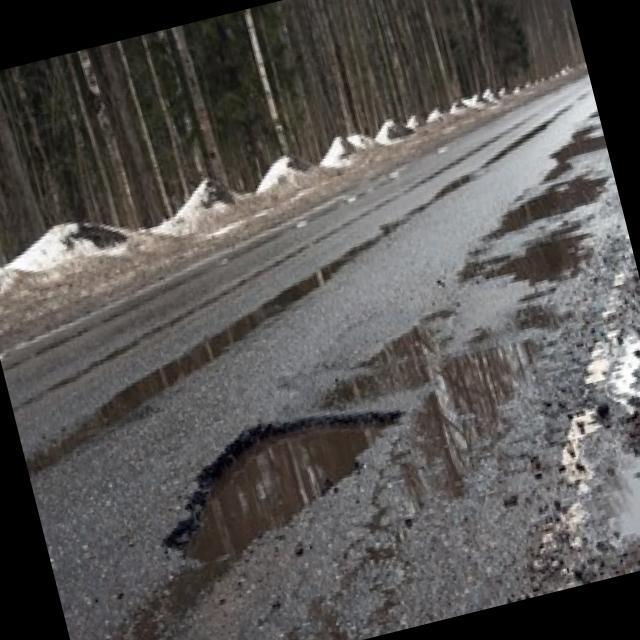Pothole: (140, 388, 430, 580)
